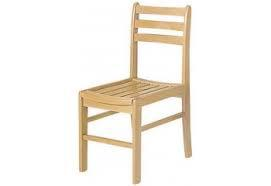chair: (70, 3, 205, 178)
